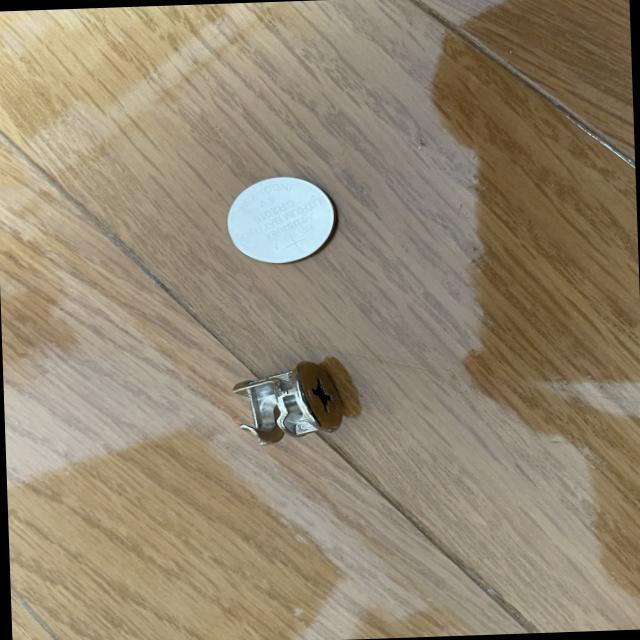COIN: (224, 174, 333, 264)
